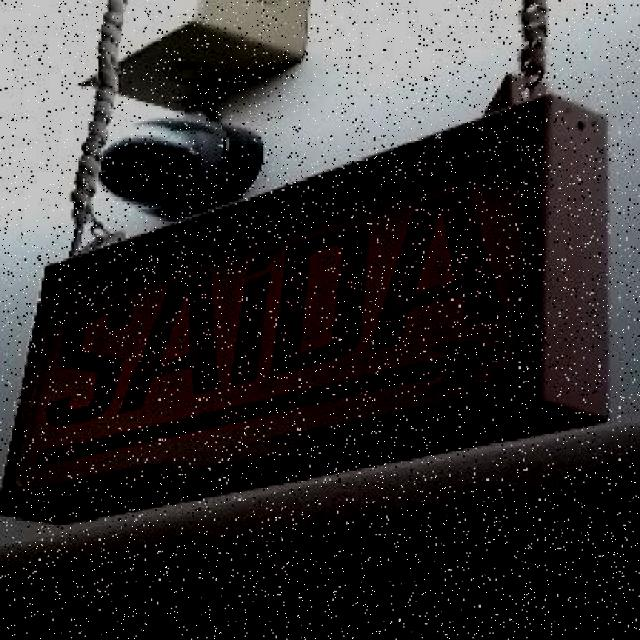emergency_exit: (3, 87, 611, 512)
